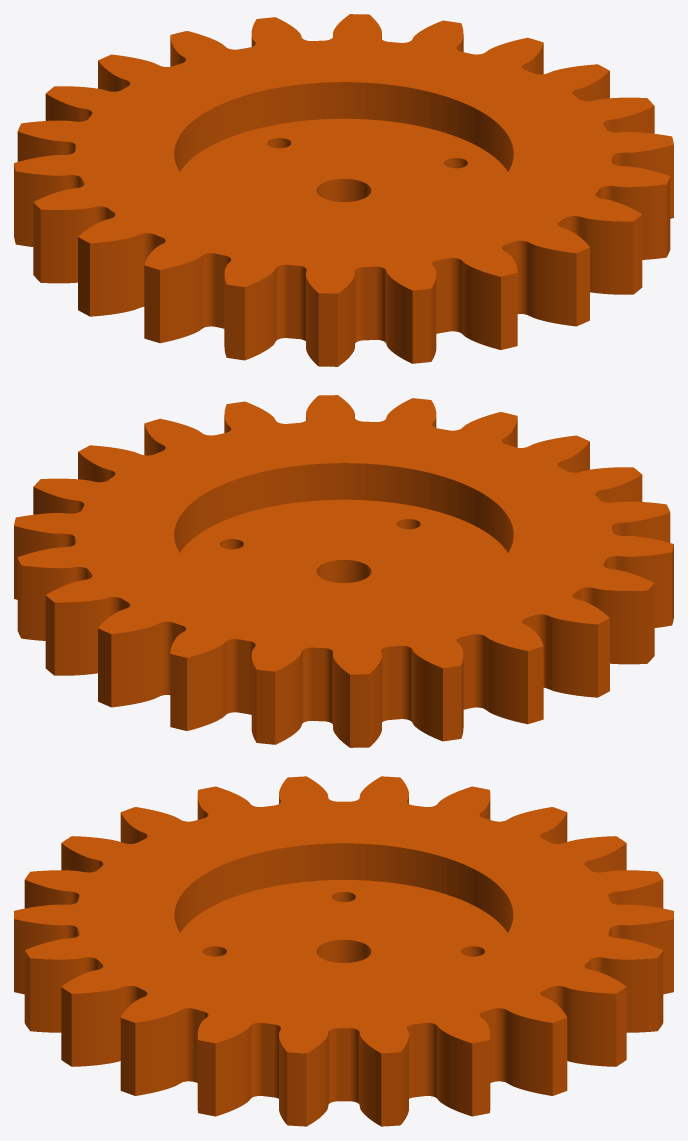
Rendered from EEZYbotARM_Mk2_010_gearservo_visual_vis_1.dae.
The picture shows the model from 3 angles, top to bottom: view 1: azimuth 30°, elevation 25°; view 2: azimuth 150°, elevation 25°; view 3: azimuth 270°, elevation 25°; orthographic projection.
Visible parts, largest first — view 1: node; view 2: node; view 3: node.
Part boxes in pixels (x1=…): node: x1=14, y1=14, x2=673, y2=366; node: x1=14, y1=395, x2=673, y2=747; node: x1=14, y1=776, x2=673, y2=1126.
Bounding box in the file's own units: 0.0406 × 0.005 × 0.0409.
